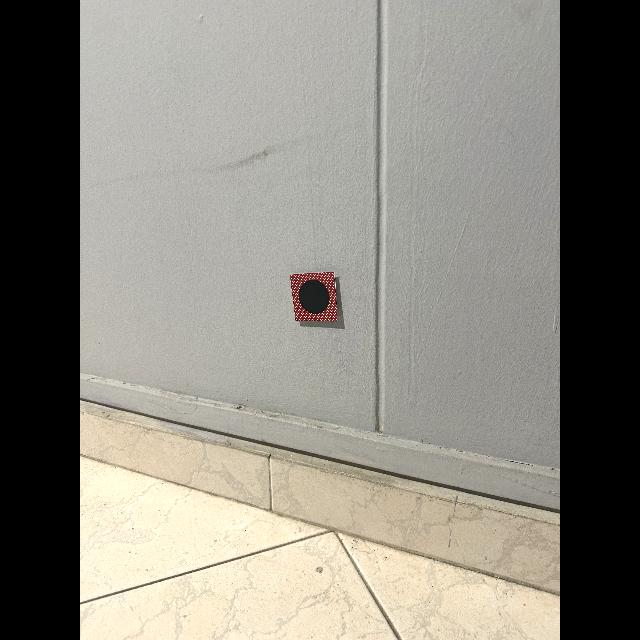CIRCLE: (299, 280, 329, 314)
